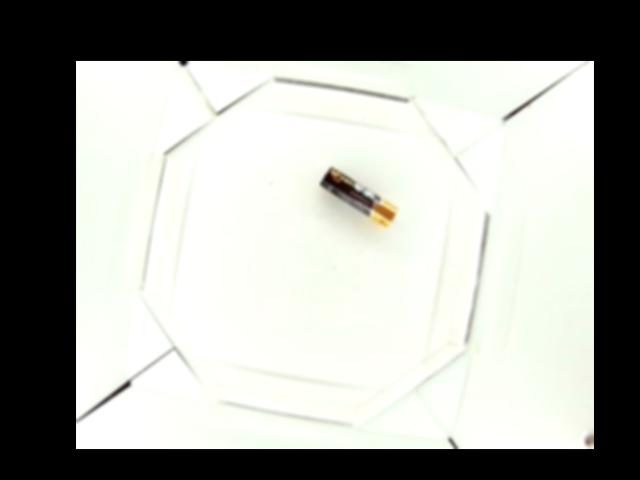Battery: (318, 166, 399, 228)
